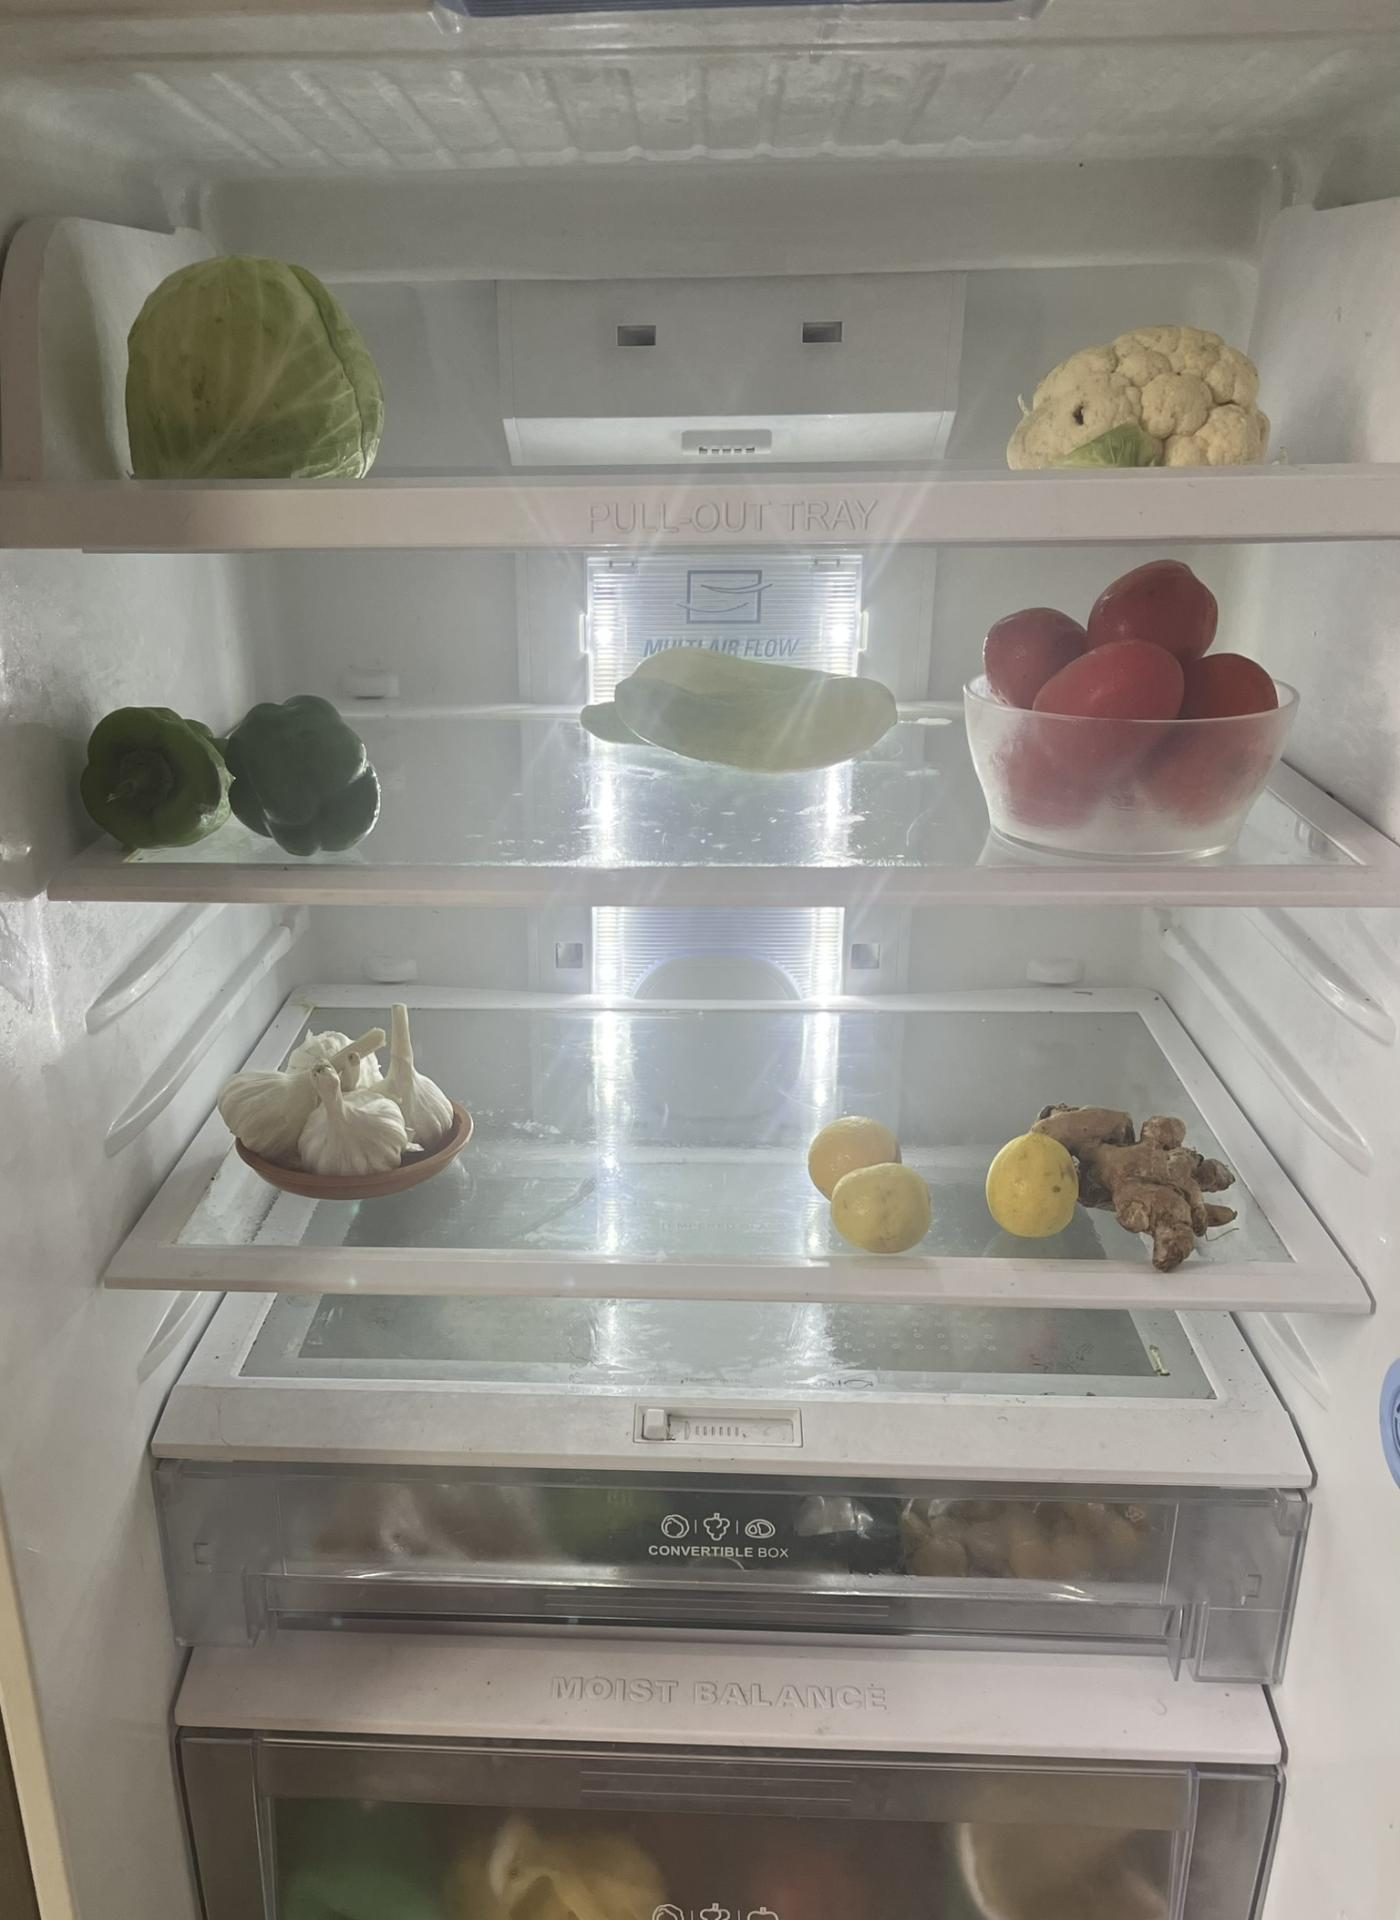cabbage: (122, 258, 379, 476)
capsicum: (73, 696, 379, 853)
cauliflower: (1014, 328, 1273, 464)
cucumber: (577, 644, 902, 775)
garlic: (224, 999, 449, 1176)
ginger: (1044, 1099, 1246, 1263)
lemon: (811, 1111, 930, 1249), (990, 1131, 1085, 1234)
tomato: (978, 556, 1264, 820)
